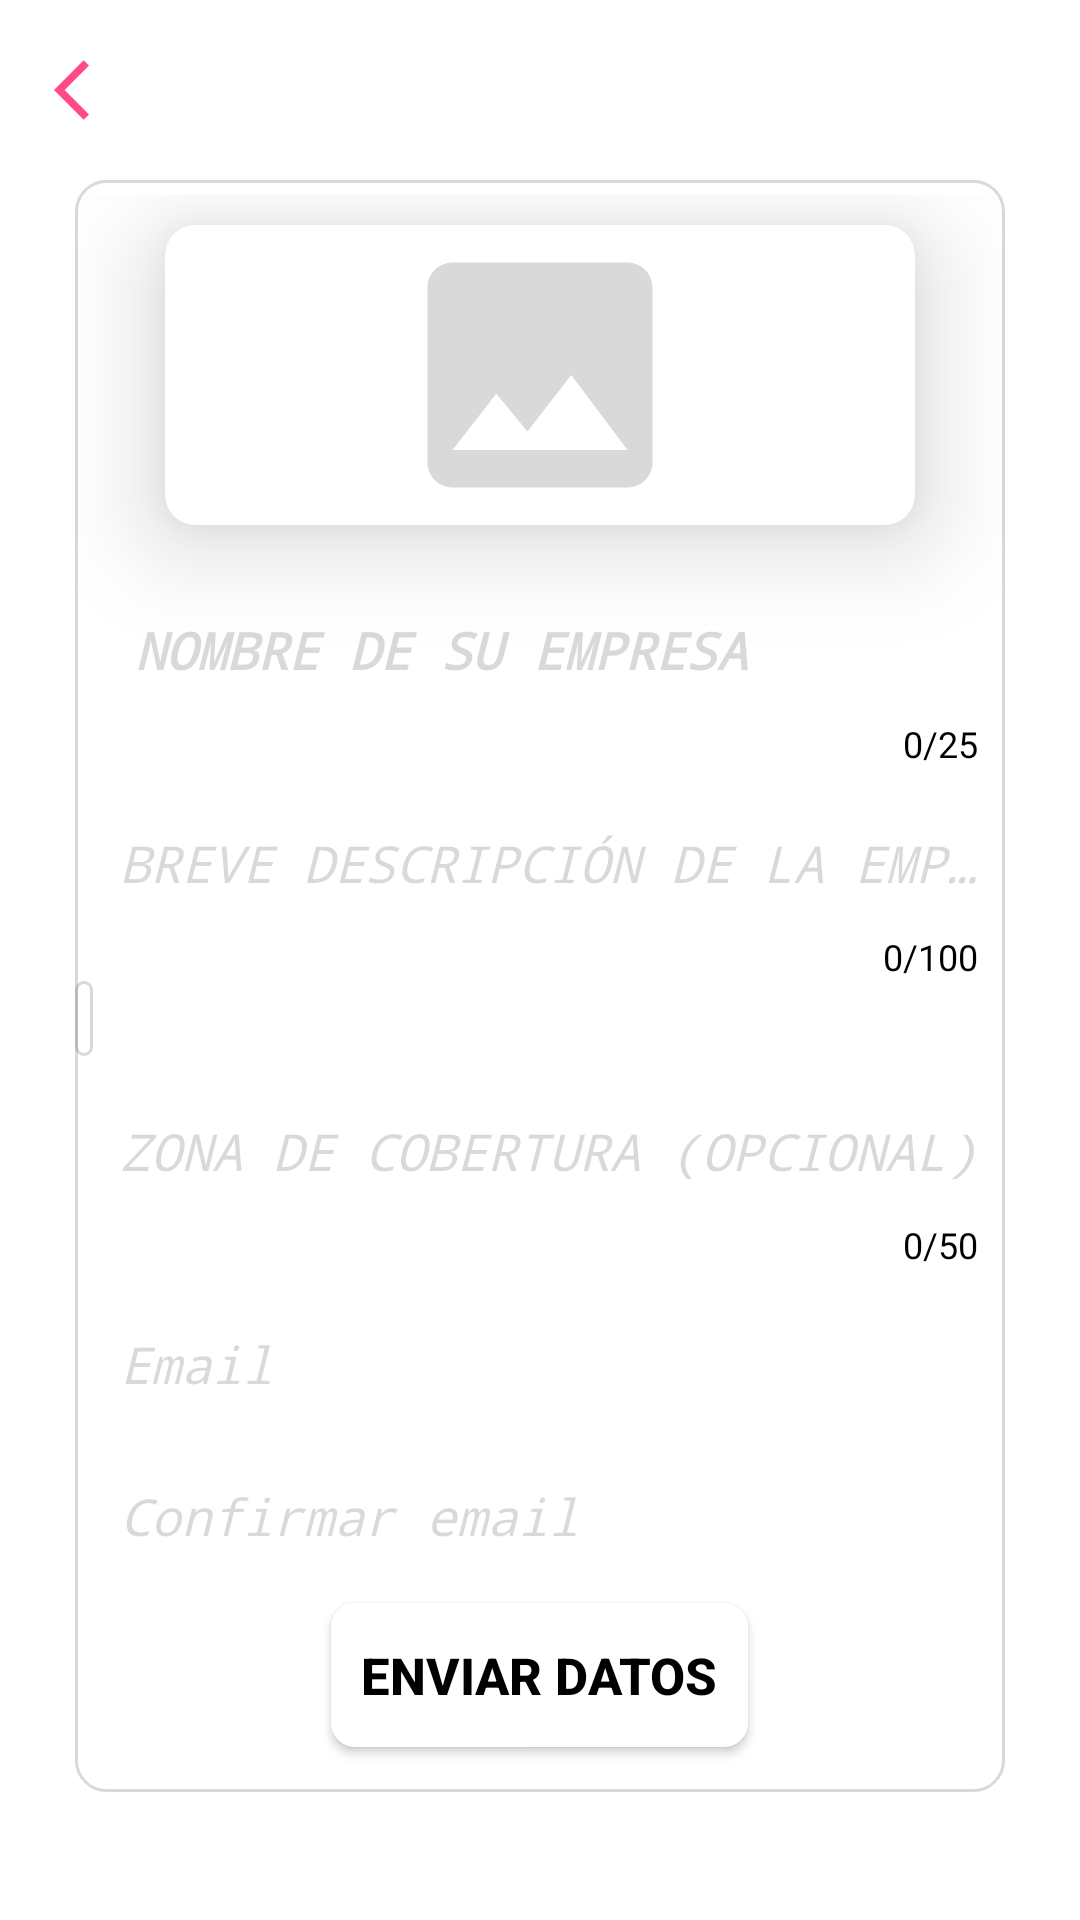

Icons on this 1080x1920 Android screen, each with its box as {"x1": x1, "y1": y1, "x2": x2, "y2": y2}:
arrow back: {"x1": 54, "y1": 60, "x2": 89, "y2": 120}
